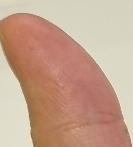Fingerprints: (0, 12, 125, 127)
